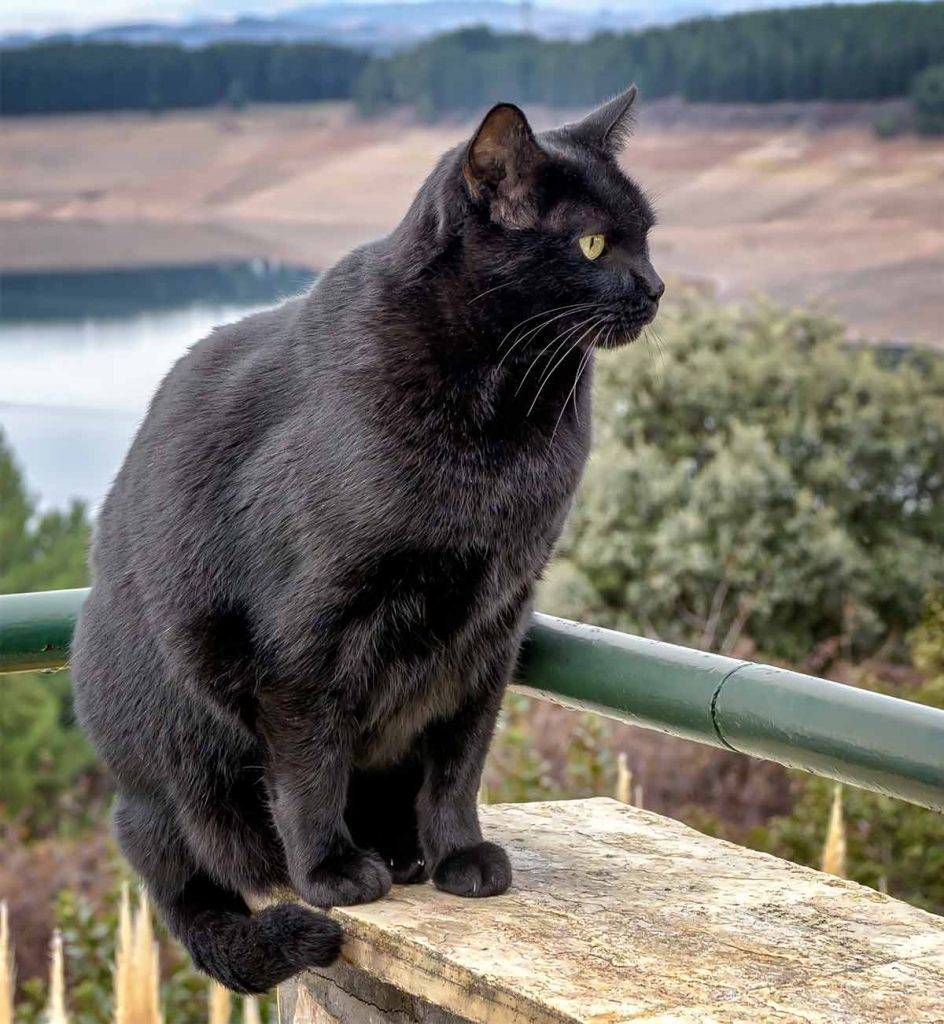Bombay: (34, 71, 738, 1002)
